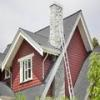chimneys: (49, 4, 63, 48)
